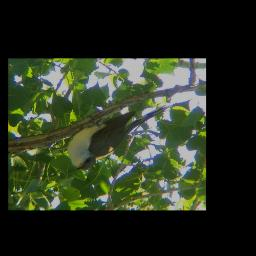Cuckoo: (66, 104, 174, 171)
